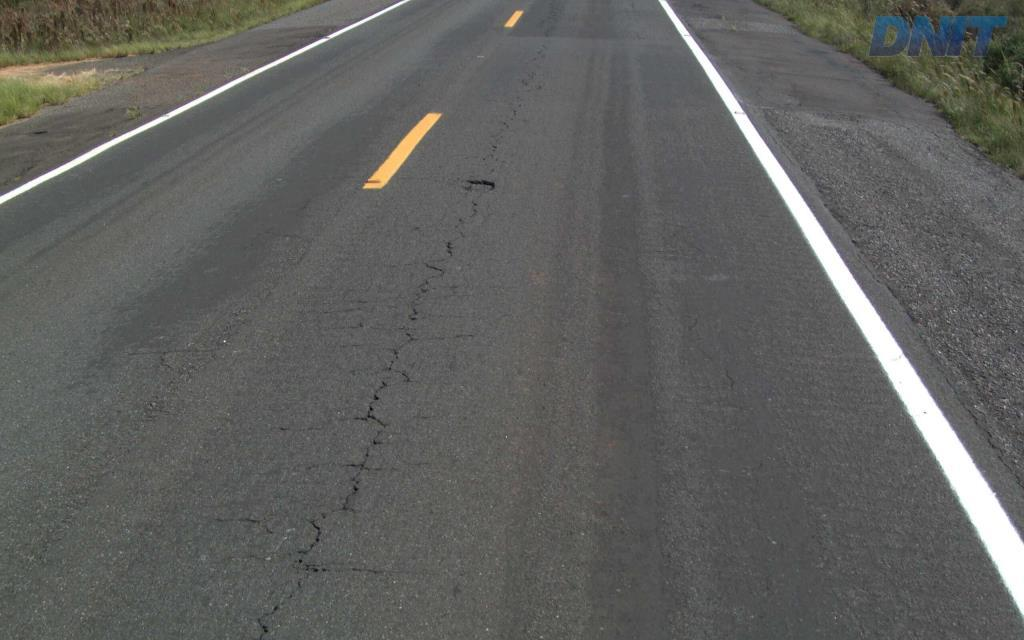crack: (291, 518, 330, 578), (338, 446, 370, 514)
